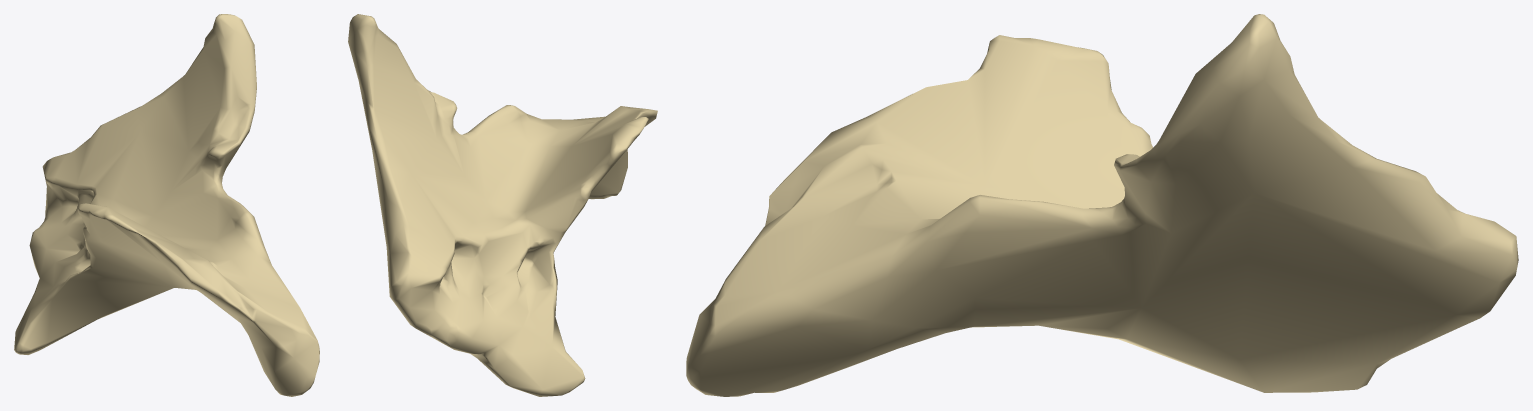
3 views of the same model, side by side, from view 1: azimuth 30°, elevation 25°; view 2: azimuth 150°, elevation 25°; view 3: azimuth 270°, elevation 25° (orthographic). The views are drawn at different scales.
Parts seen in each view (by area): view 1: 左侧颧骨; view 2: 左侧颧骨; view 3: 左侧颧骨.
Boxes of the visible parts, x1,y1,x2,y2 form: 左侧颧骨: (14, 14, 319, 396); 左侧颧骨: (348, 14, 657, 396); 左侧颧骨: (686, 14, 1518, 396).
Bounding box in the file's own units: 0.0452 × 0.0574 × 0.0807.
